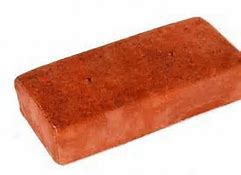brick: (12, 14, 241, 167)
